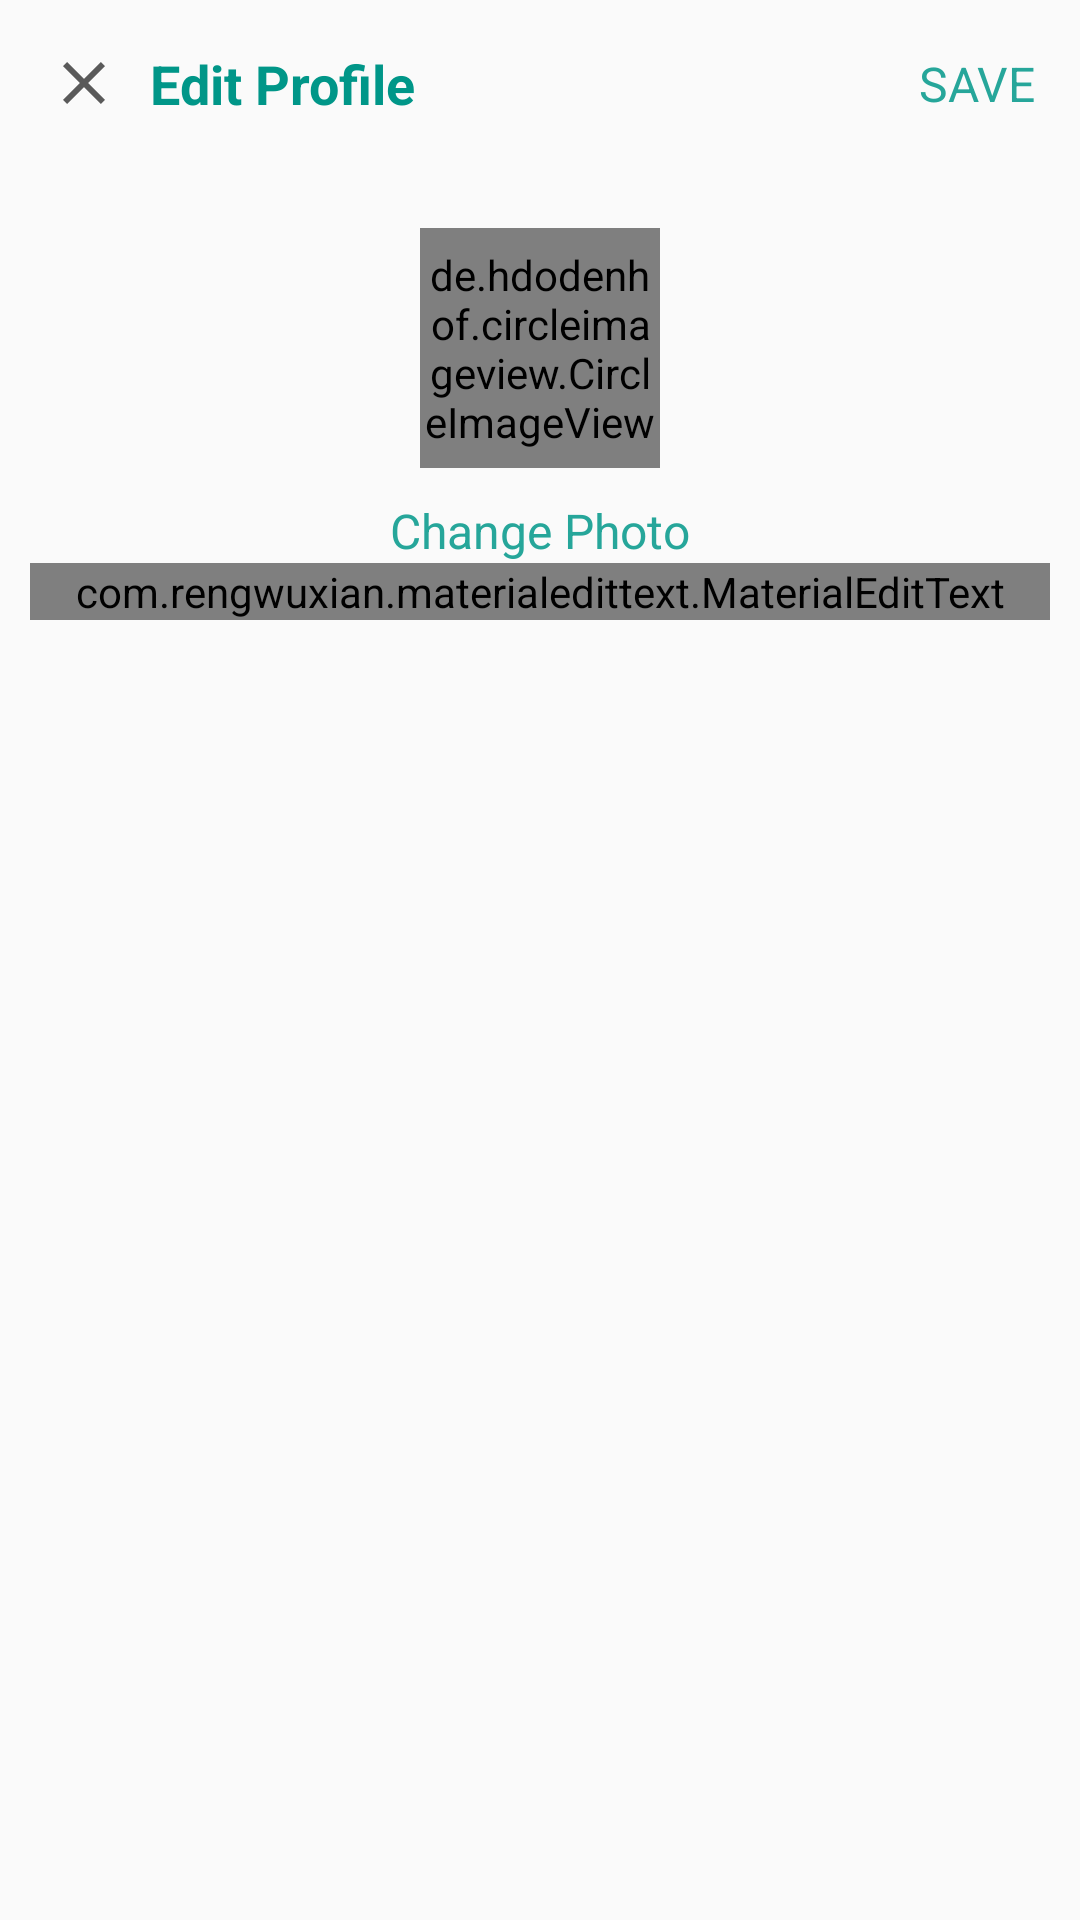

Screen size 1080 x 1920. Icon name, then its box in pixels as (x1,y1,x2,y2):
close: (63,62,105,104)
